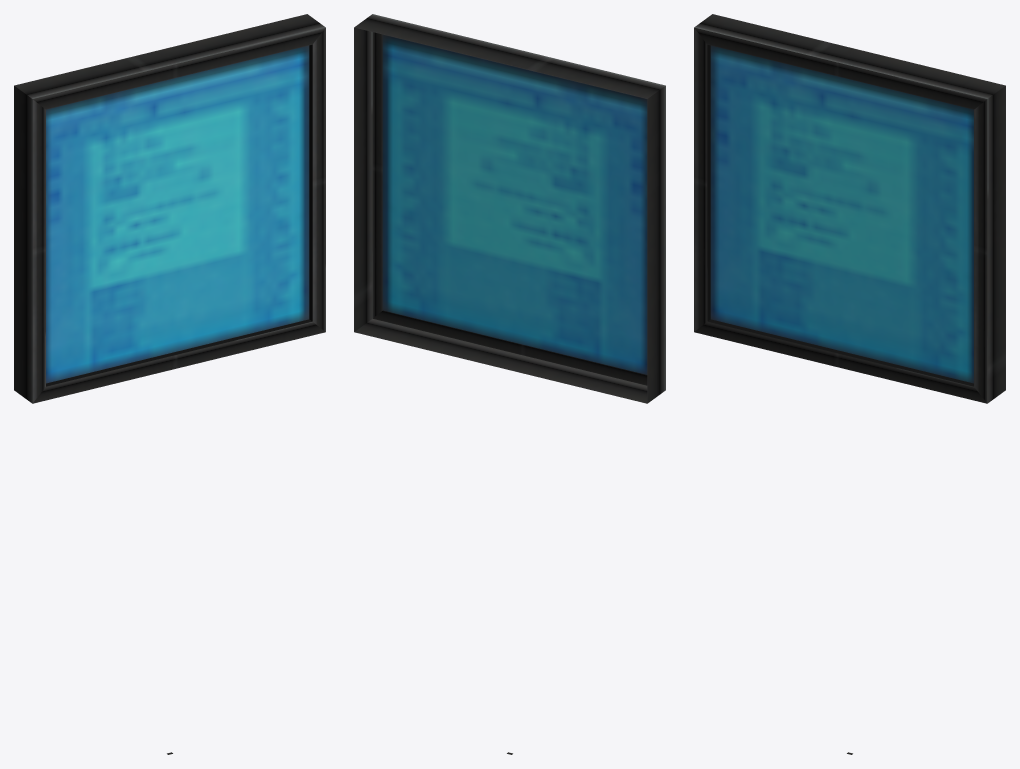
Rendered from telacomputadorP1.fbx.
The picture shows the model from 3 angles, left to right: view 1: azimuth 30°, elevation 25°; view 2: azimuth 150°, elevation 25°; view 3: azimuth 330°, elevation 25°; orthographic projection.
Parts seen in each view (by area): view 1: Cylinder.001; view 2: Cylinder.001; view 3: Cylinder.001.
Part boxes in pixels (bbox=[...]): Cylinder.001: bbox=[14, 14, 325, 754]; Cylinder.001: bbox=[354, 14, 665, 754]; Cylinder.001: bbox=[694, 14, 1005, 754].
Size of the model in its own units: 0.9678 by 2.2 by 0.1055.
